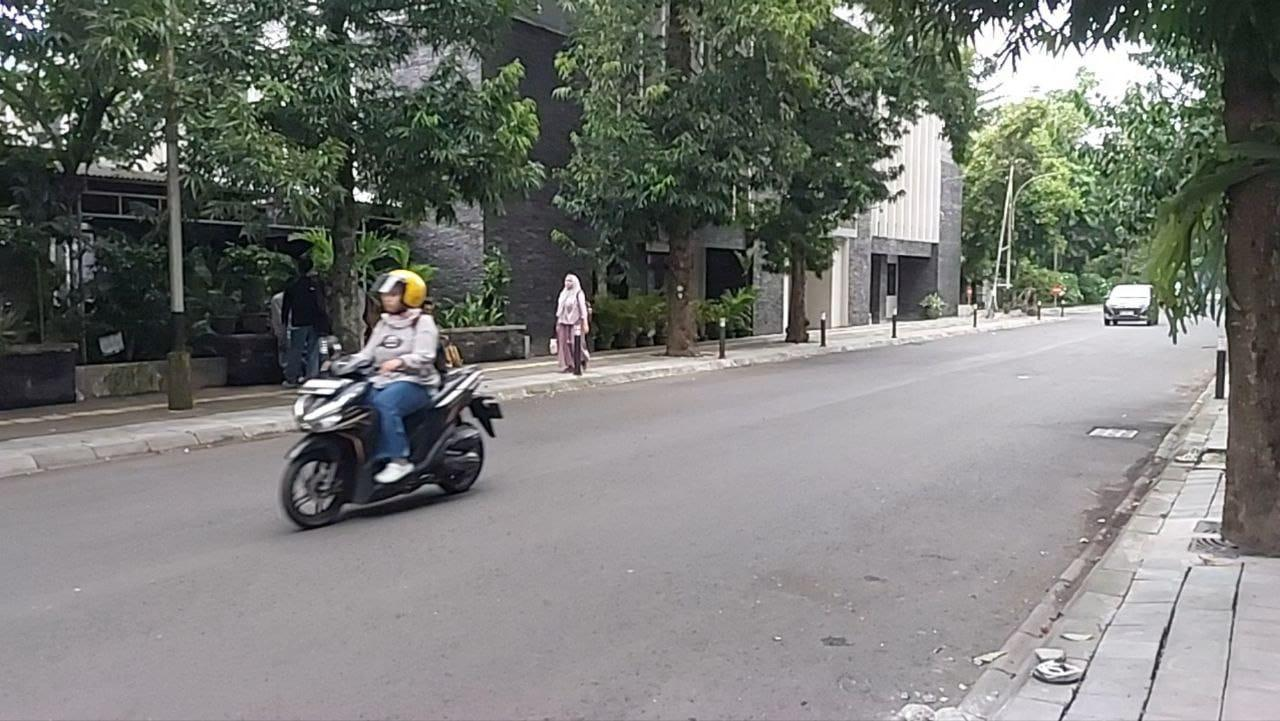helm: (369, 268, 428, 315)
riding: (280, 268, 504, 530)
